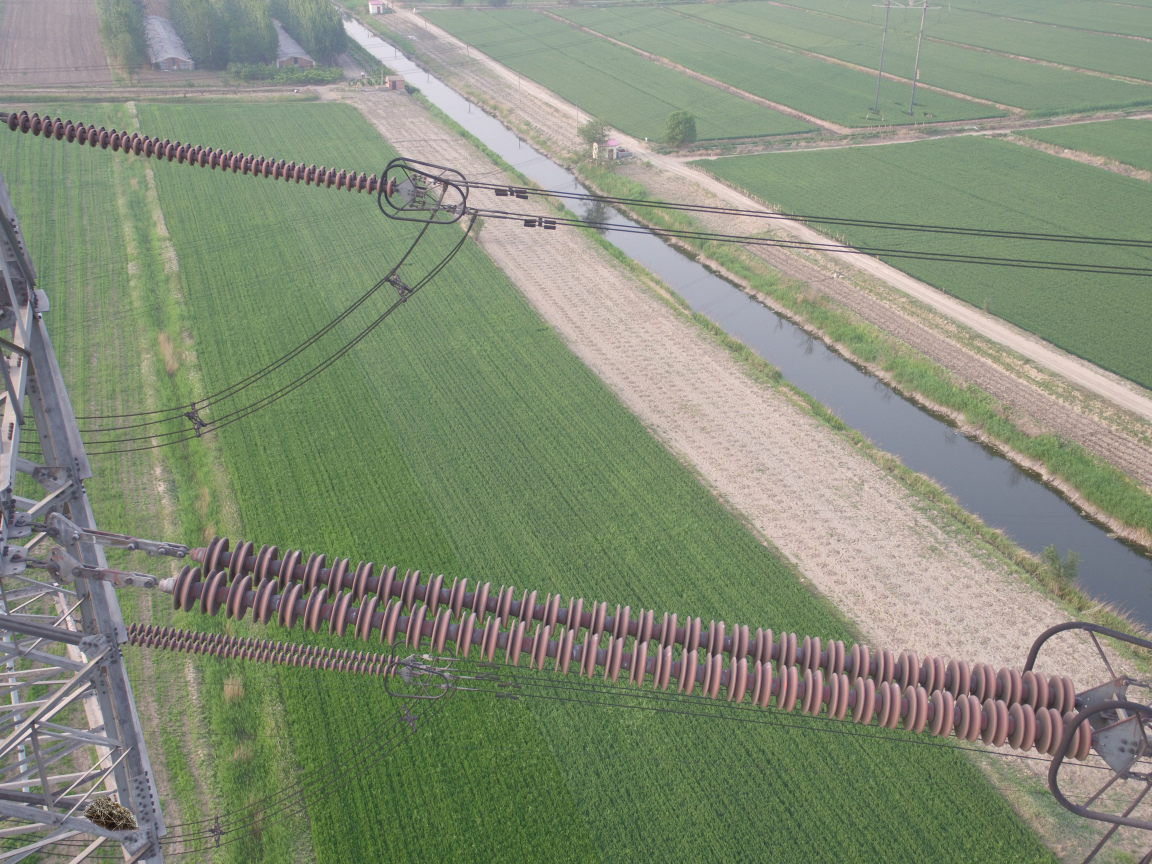nest: (84, 796, 144, 837)
